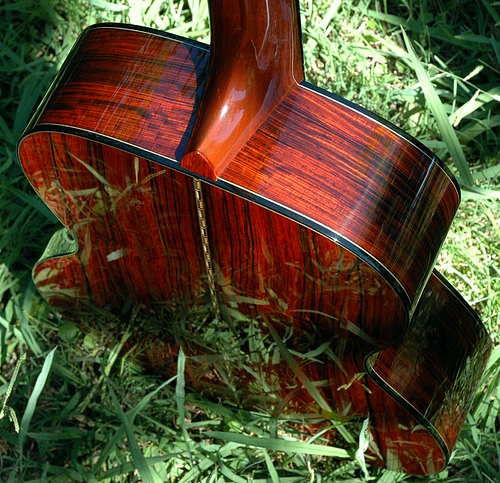guitar: (15, 1, 495, 475)
